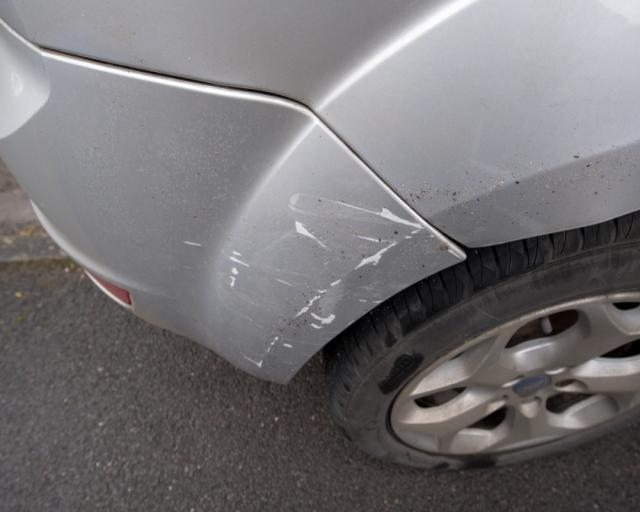scratch: (173, 190, 460, 373)
